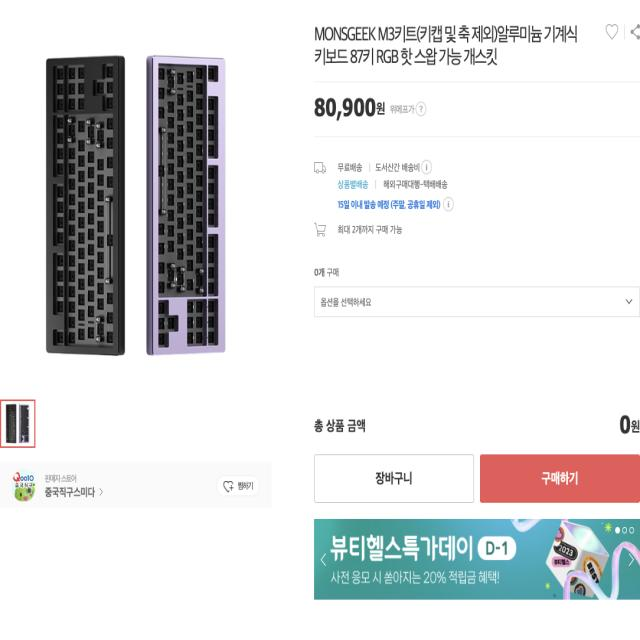product_name: (312, 22, 587, 68)
product_original_price: (310, 95, 396, 126)
